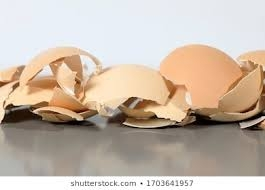kitchen_waste: (157, 43, 248, 137), (76, 59, 172, 131), (184, 56, 265, 130), (2, 80, 101, 140), (11, 41, 107, 89)
